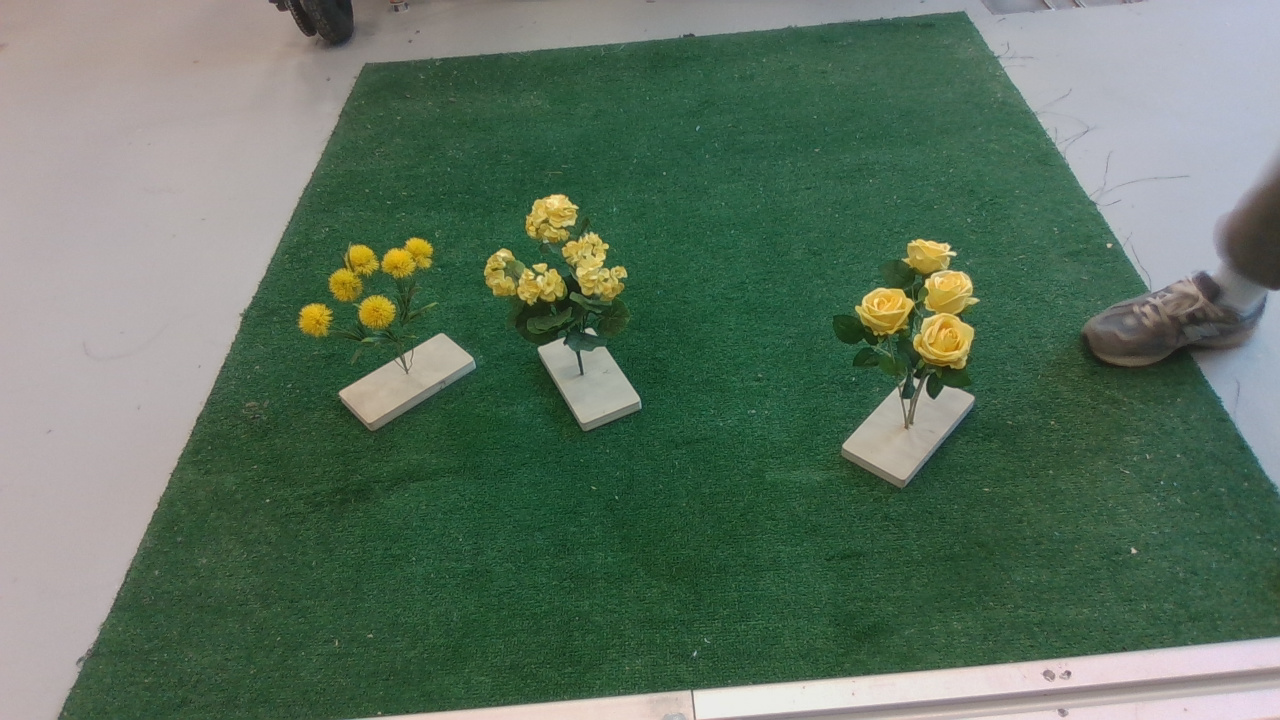dandelion: (295, 231, 450, 365)
geranium: (484, 191, 642, 358)
rose: (830, 234, 988, 412)
